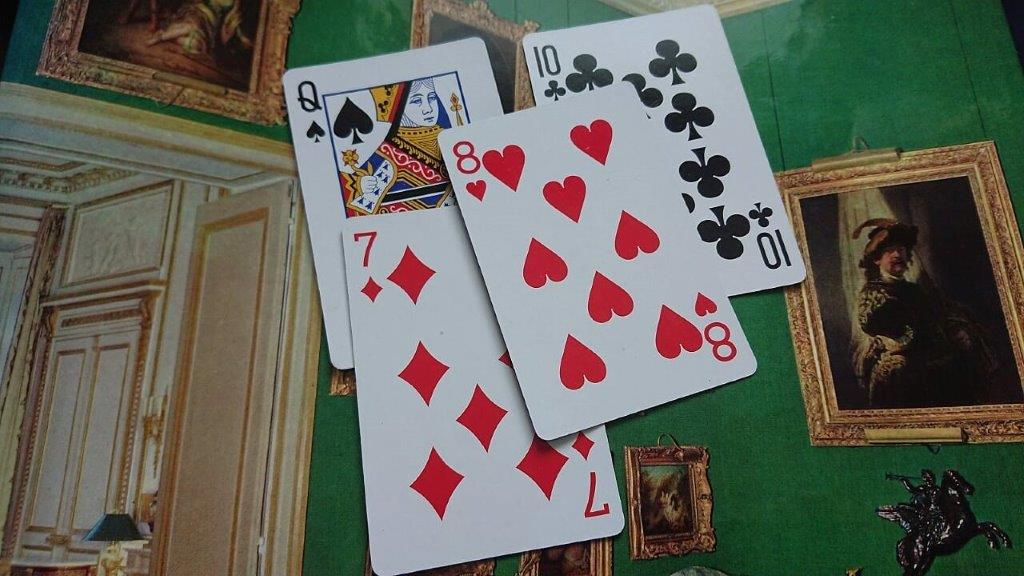10C: (530, 41, 568, 104)
7D: (347, 228, 386, 306)
8H: (449, 135, 489, 205)
QS: (291, 78, 329, 146)
